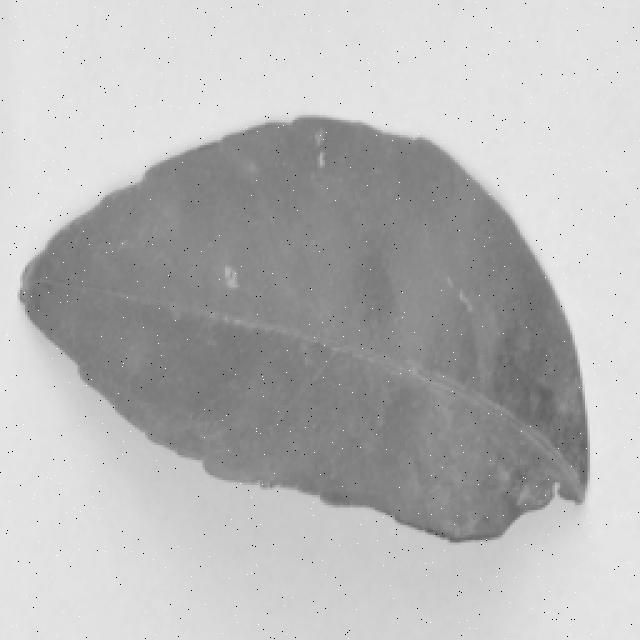healthy: (10, 100, 600, 559)
